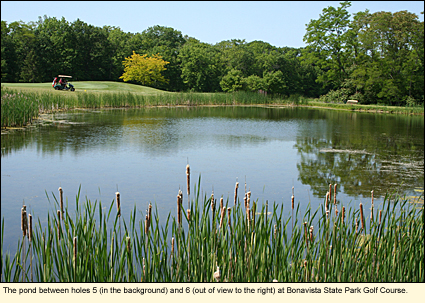cattails: (1, 162, 425, 279)
sky: (1, 1, 315, 44)
tree: (299, 3, 355, 87)
vegetation: (29, 186, 425, 282), (1, 21, 425, 109)
water: (1, 97, 425, 251)
